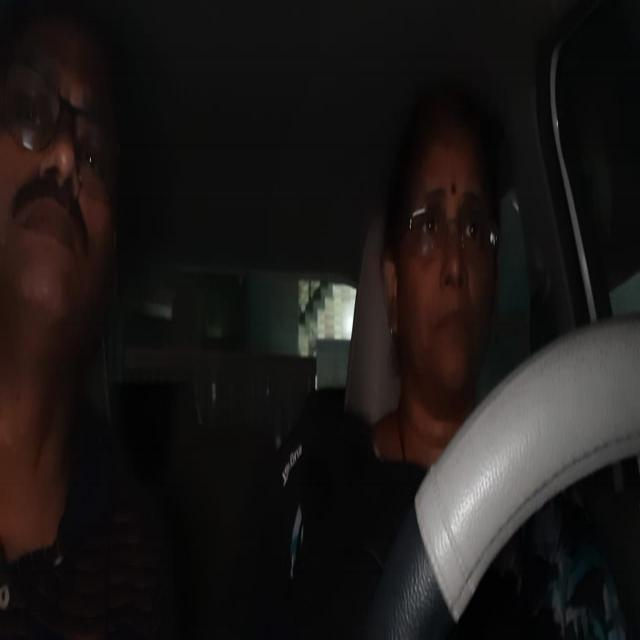person: (0, 0, 129, 363), (376, 94, 511, 420)
